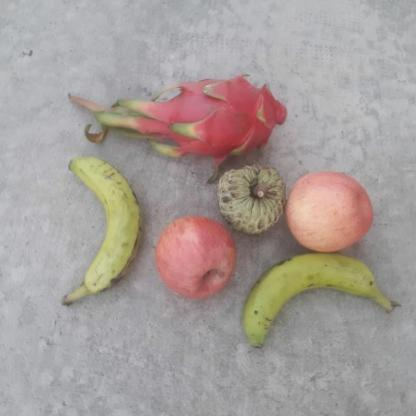annona: (215, 160, 289, 238)
apple: (287, 170, 377, 250), (161, 215, 237, 296)
banana: (45, 154, 146, 306), (240, 251, 383, 344)
pitaya: (149, 76, 289, 160)
